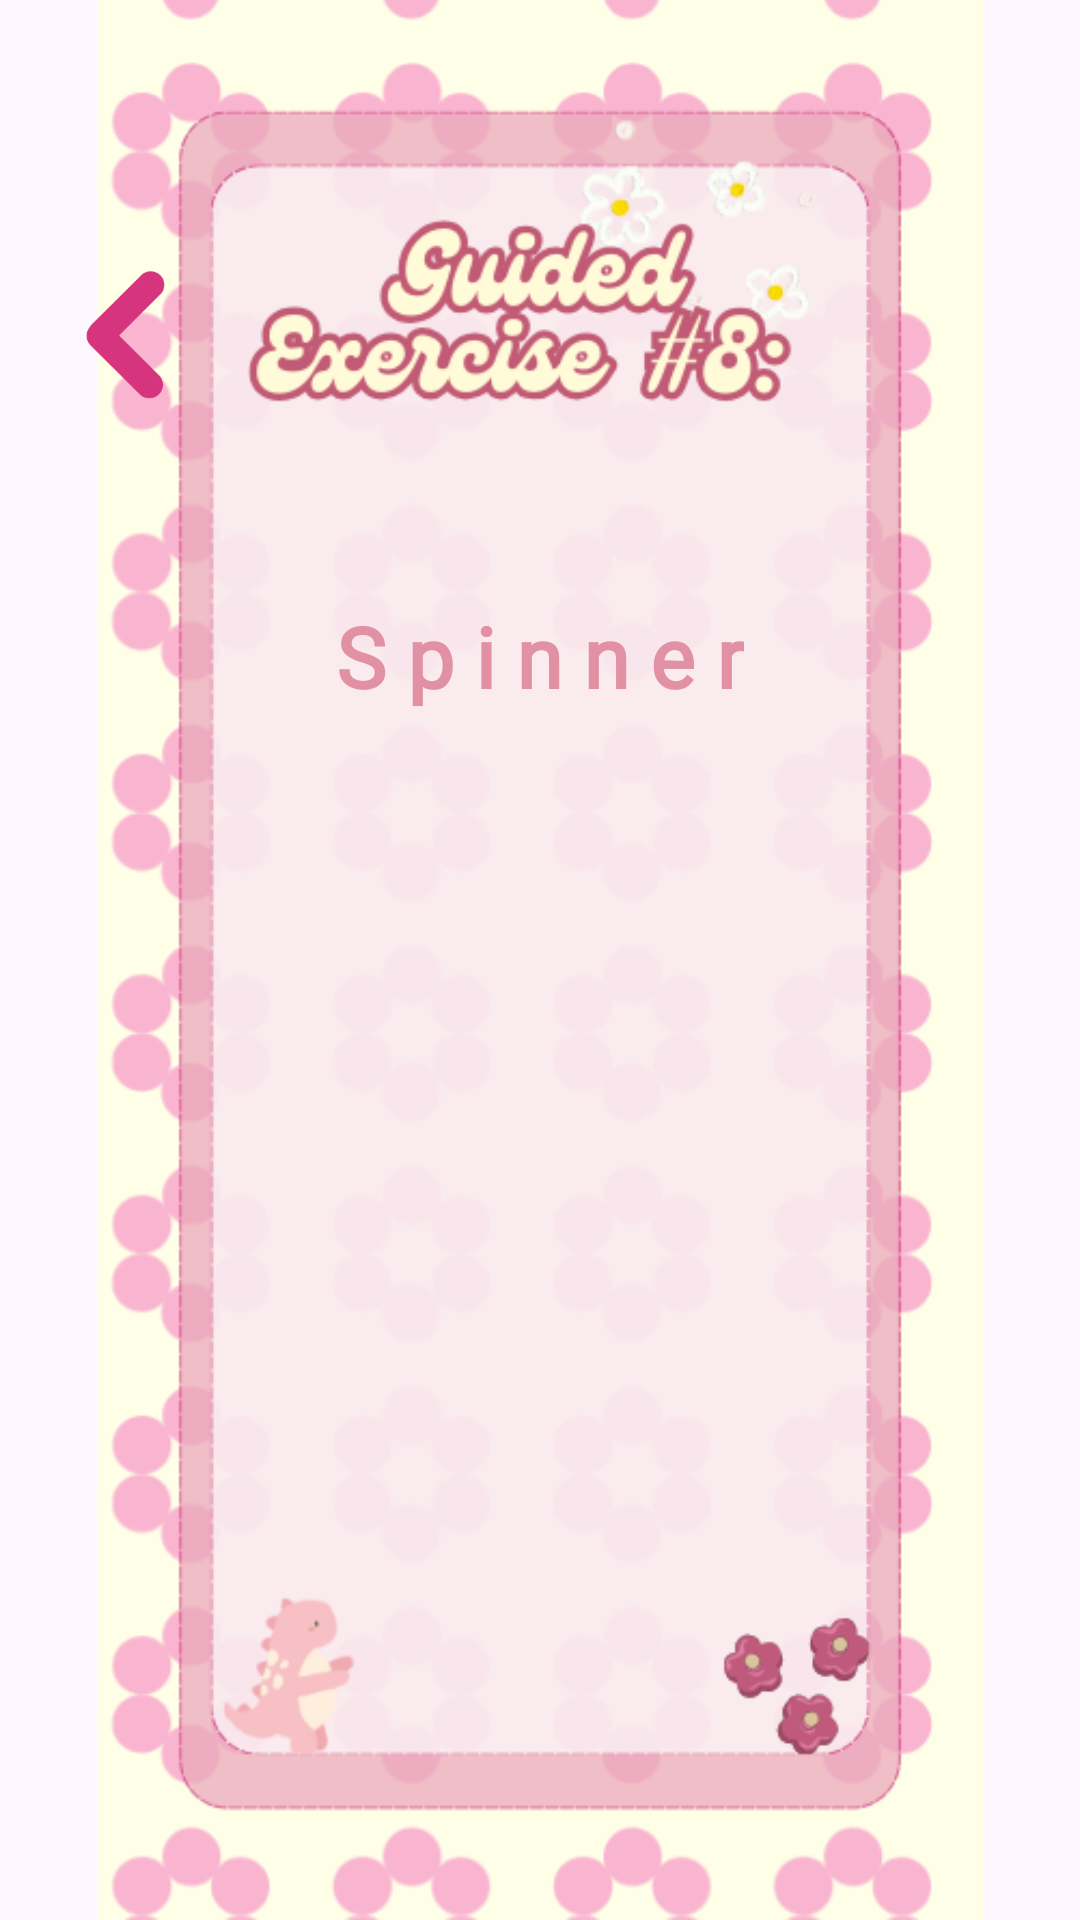

Icon bounding boxes for this 1080×1920 phone screenshot, format (x1, y1, x2, y2):
back: (86, 271, 170, 405)
